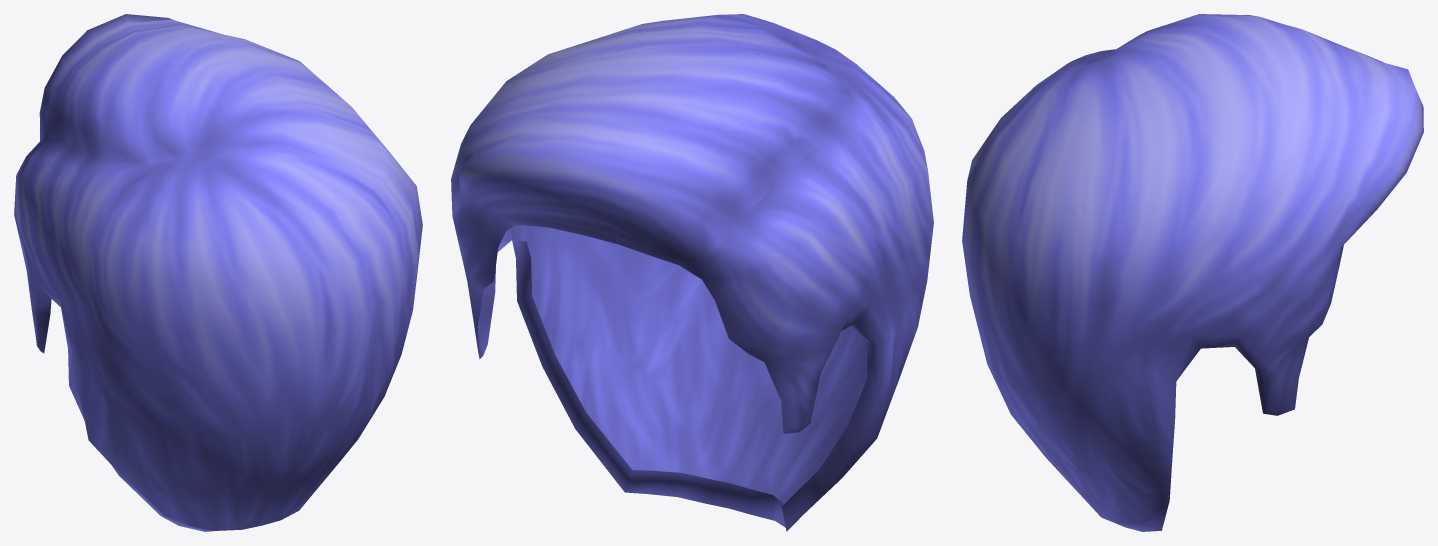
File: Hair_Male_002_textured_sky.glb
3 renders of one model, left to right at view 1: azimuth 30°, elevation 25°; view 2: azimuth 150°, elevation 25°; view 3: azimuth 270°, elevation 25°, orthographic. The views are drawn at different scales.
Parts seen in each view (by area): view 1: Hair_Male_002; view 2: Hair_Male_002; view 3: Hair_Male_002.
Boxes of the visible parts, x1=… form: Hair_Male_002: x1=14, y1=14, x2=422, y2=531; Hair_Male_002: x1=451, y1=14, x2=933, y2=531; Hair_Male_002: x1=962, y1=14, x2=1423, y2=531.
Bounding box in the file's own units: 0.1882 × 0.2415 × 0.2192.
1 material, 1 textured.
